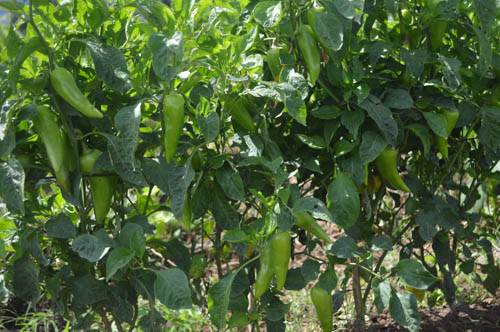ChiliPepper: (77, 149, 113, 218), (55, 69, 100, 123), (35, 105, 61, 170), (159, 93, 183, 157), (264, 236, 291, 290), (380, 150, 408, 191), (249, 243, 269, 297), (299, 215, 331, 244), (222, 96, 250, 126), (311, 287, 329, 326), (437, 112, 459, 132)
